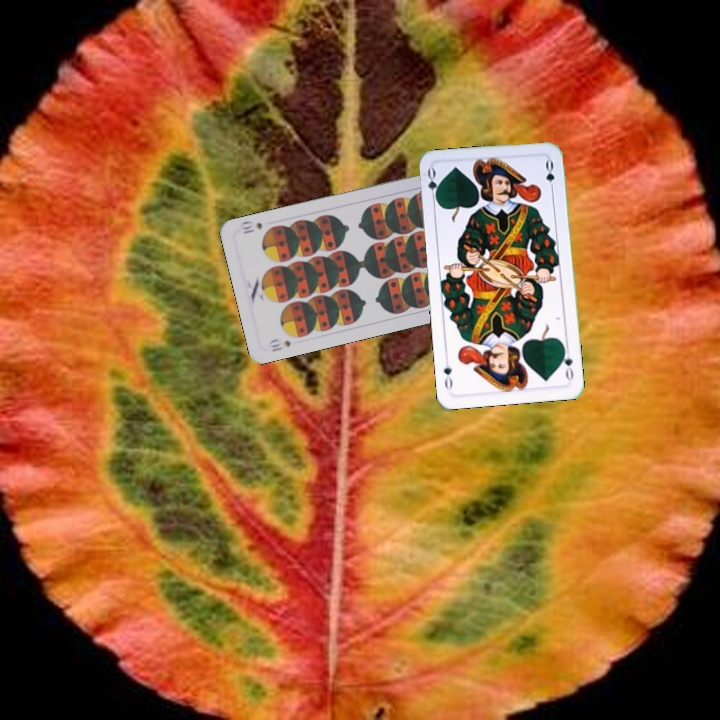GO: (423, 165, 442, 205), (558, 343, 576, 383)
S10: (265, 335, 293, 354)
